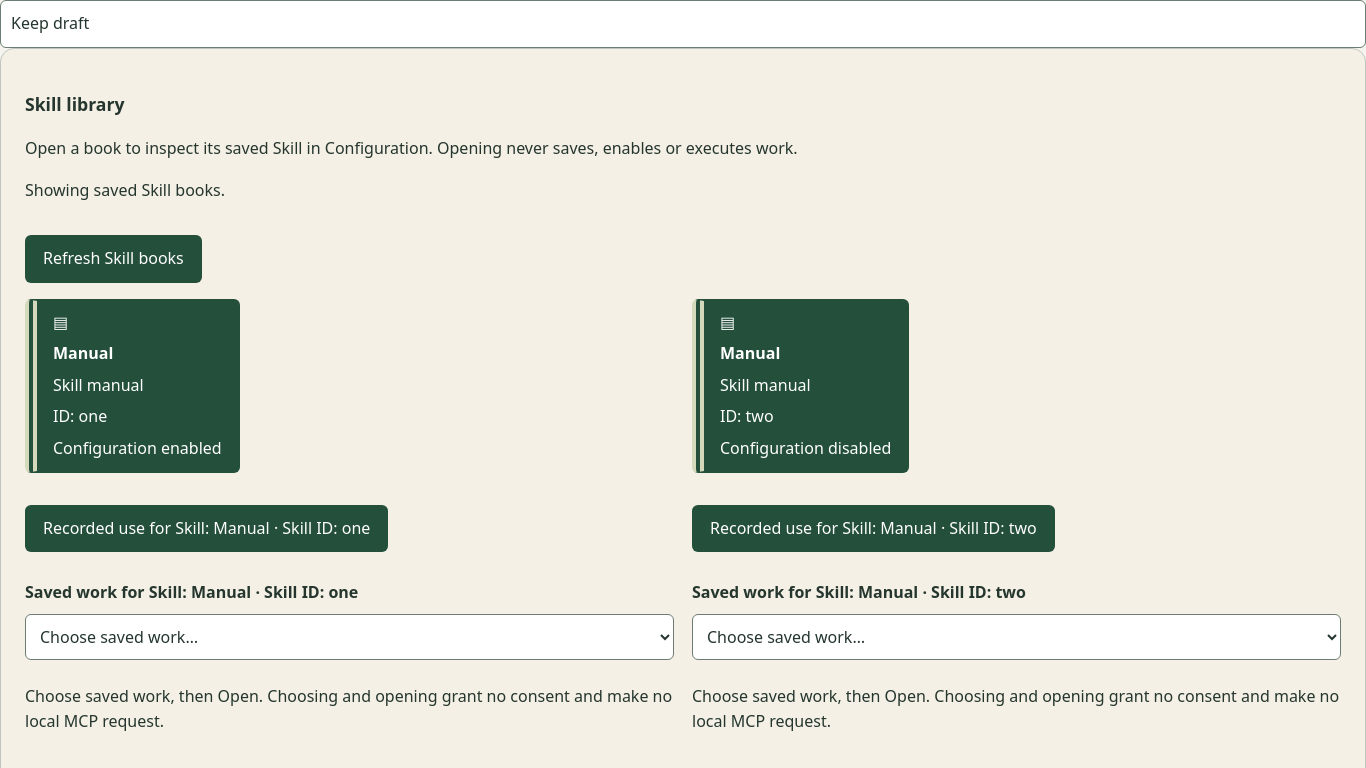
accepted card removals recover focus, including empty results; surviving and outside focus stay put
Later steps or results of the test are not shown.
Select "Keep selection · Task ID: saved" in the dropdown labelled "Saved work for Skill: Manual · Skill ID: one" at (350, 637), box [25, 614, 674, 660]
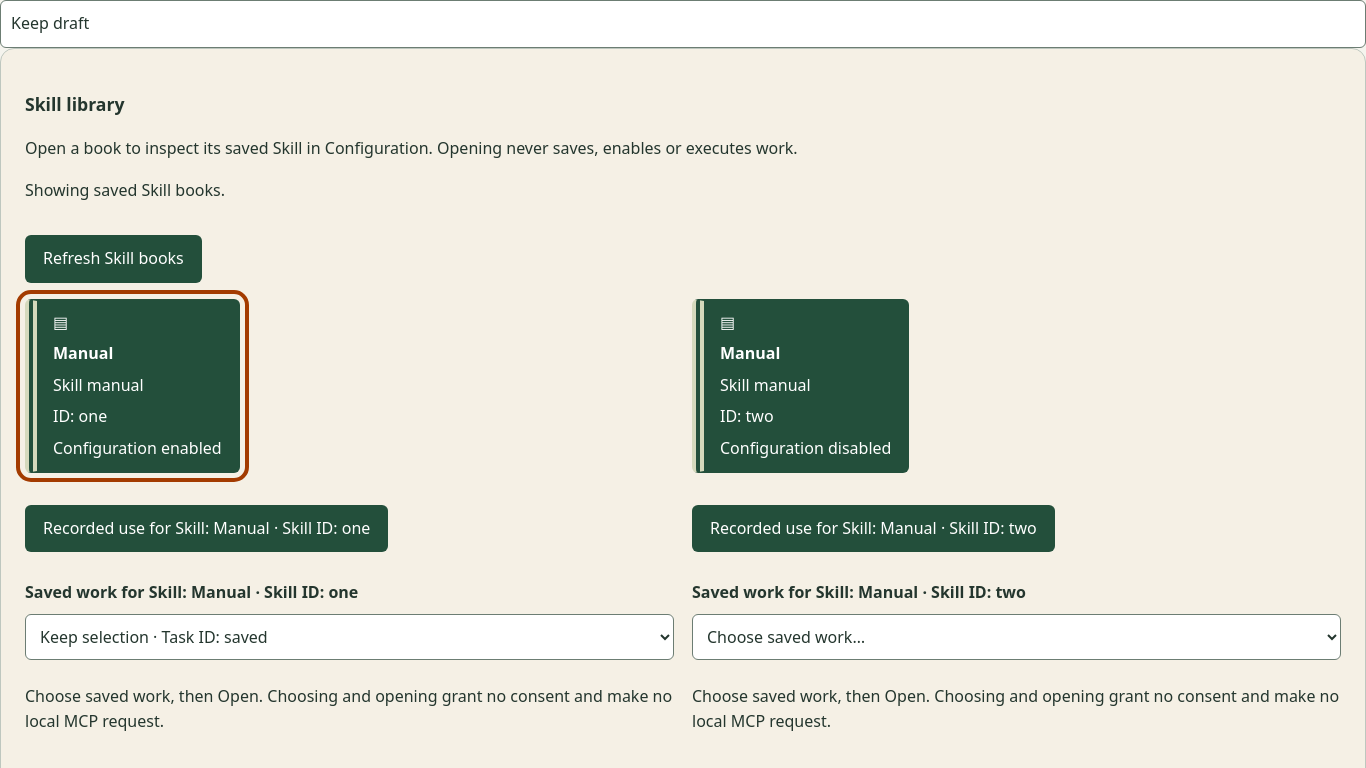
Click the button "Refresh Skill books" at (113, 259), box [25, 235, 202, 283]
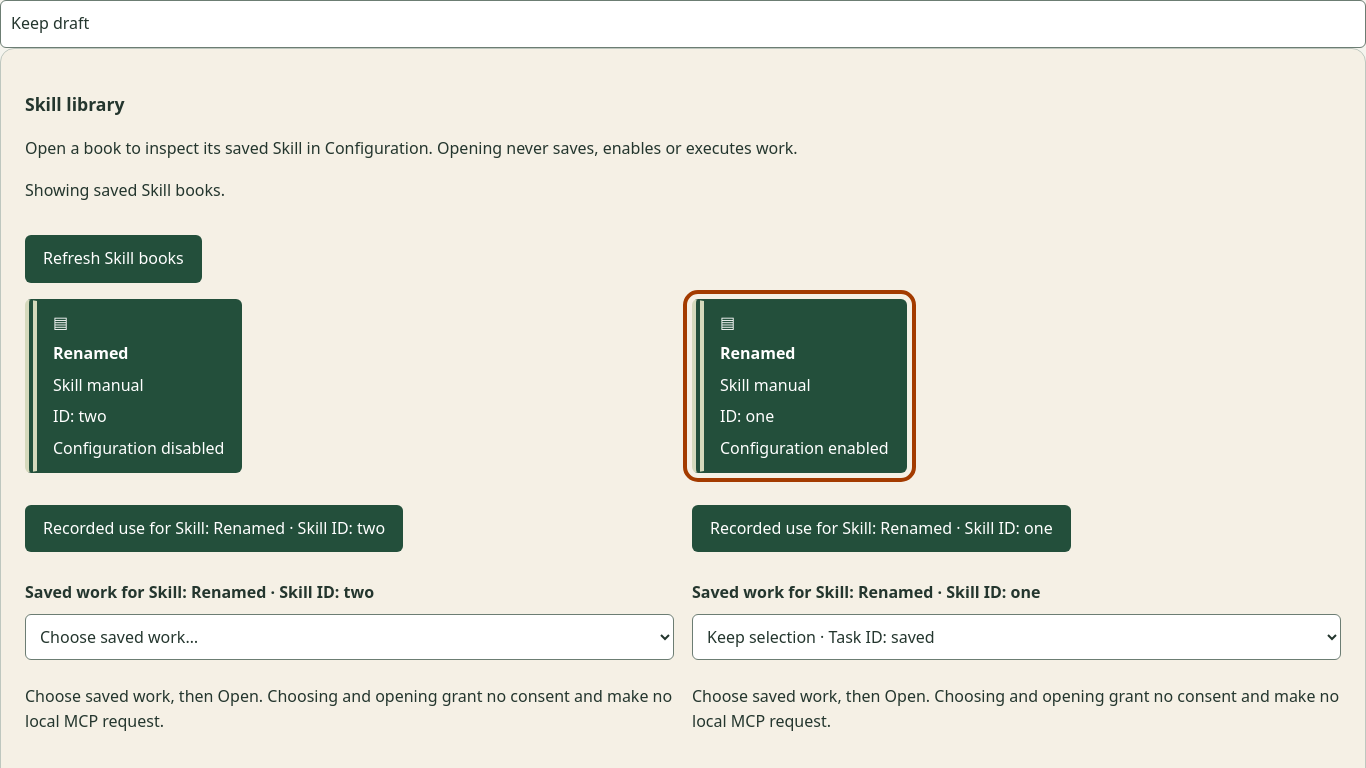
Click the button "Refresh Skill books" at (113, 259), box [25, 235, 202, 283]
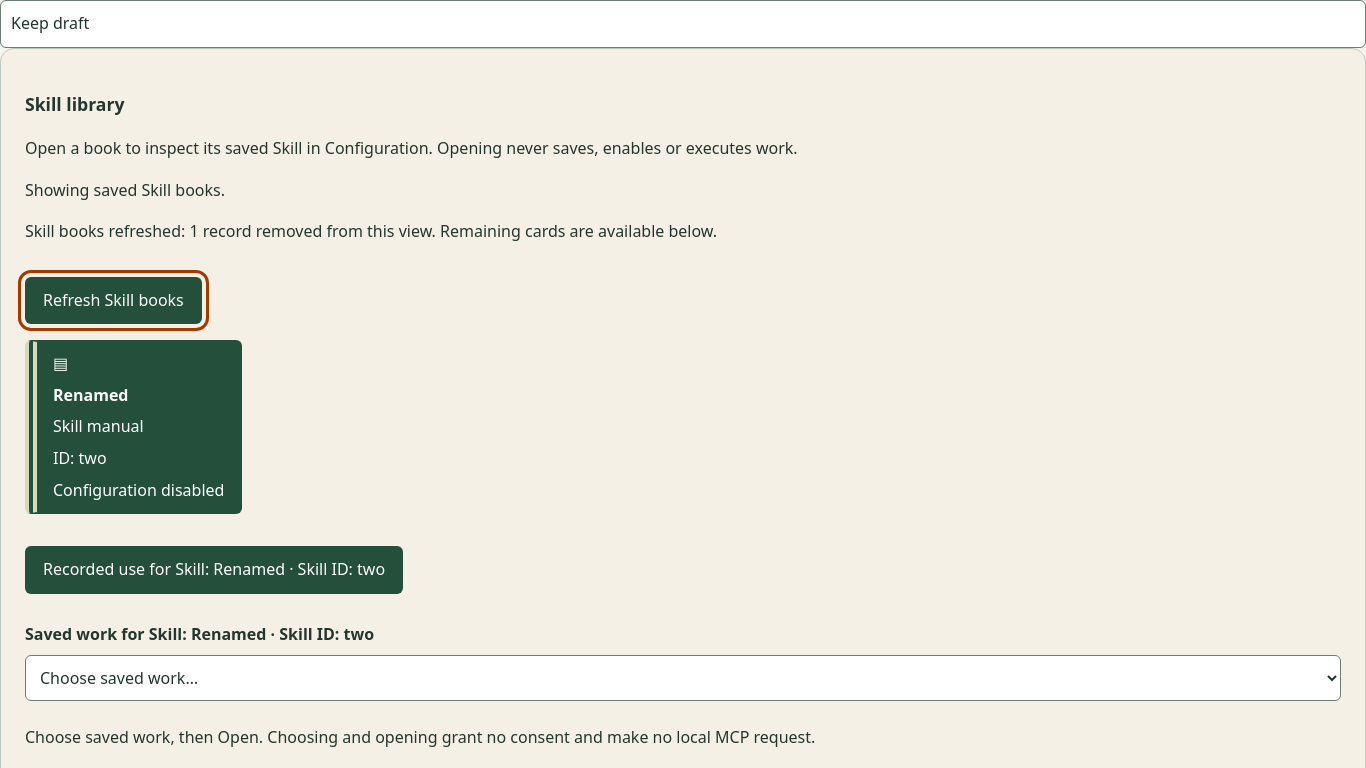
Expected: the button "Refresh Skill books" is enabled, [25, 277, 202, 324]
Expected: the text named "Skill books removals" shows "1 record removed", [25, 220, 717, 242]
Press Tab
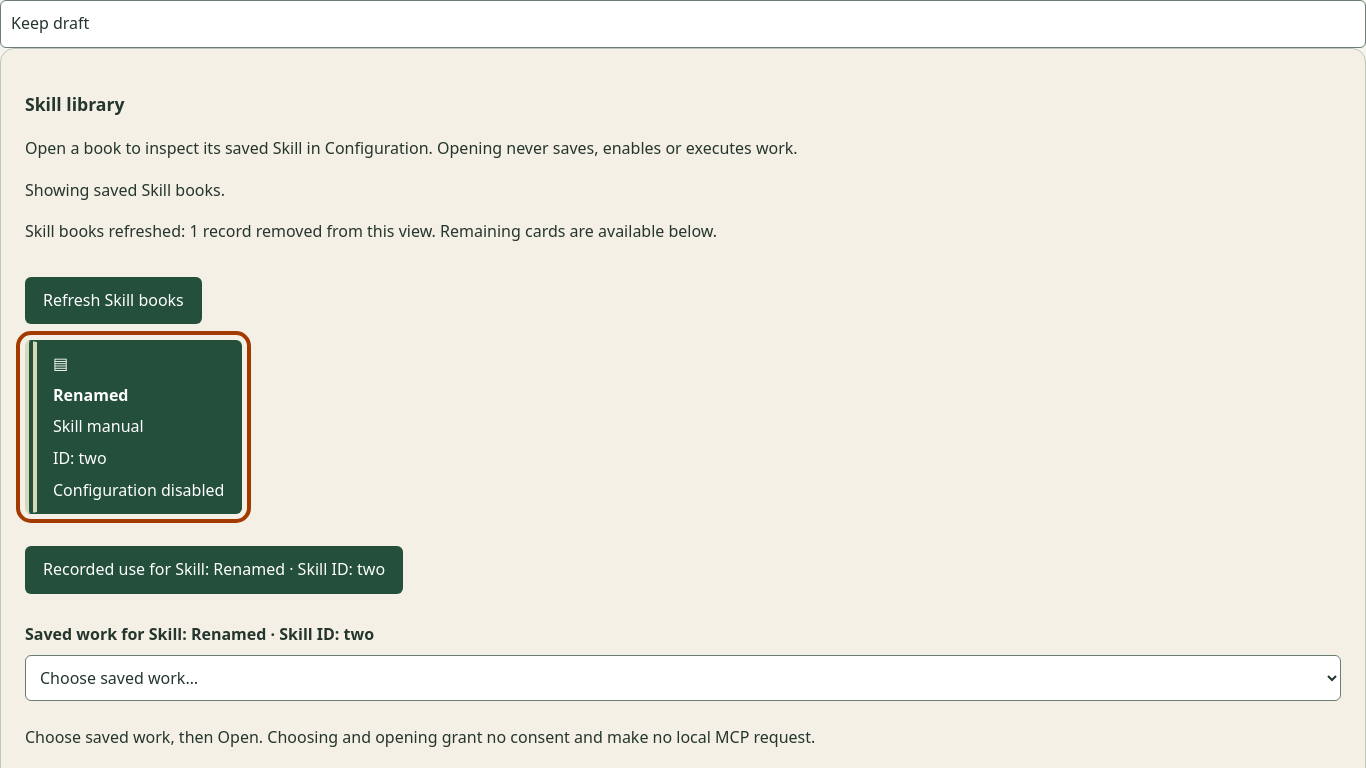
Click the button "Refresh Skill books" at (113, 300), box [25, 277, 202, 324]
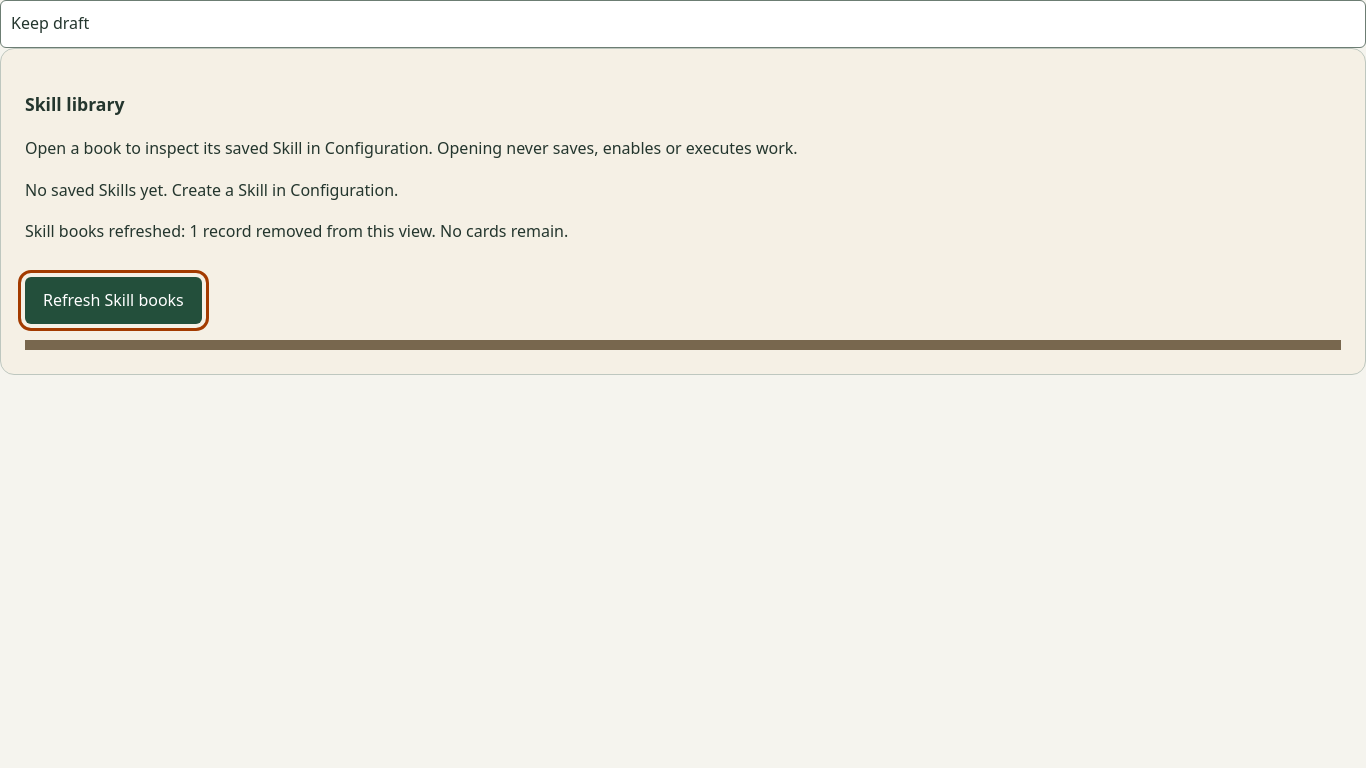
Expected: the text named "Skill books removals" shows "No cards remain", [25, 220, 568, 242]
